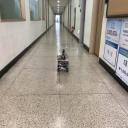cart: (57, 56, 69, 72)
